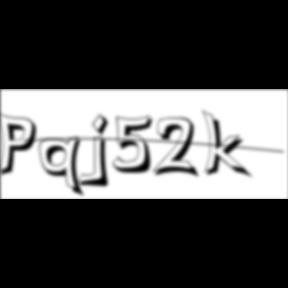2: (153, 117, 203, 181)
5: (112, 114, 160, 176)
P: (1, 110, 44, 180)
j: (88, 113, 116, 191)
k: (201, 108, 254, 181)
q: (39, 135, 88, 200)
